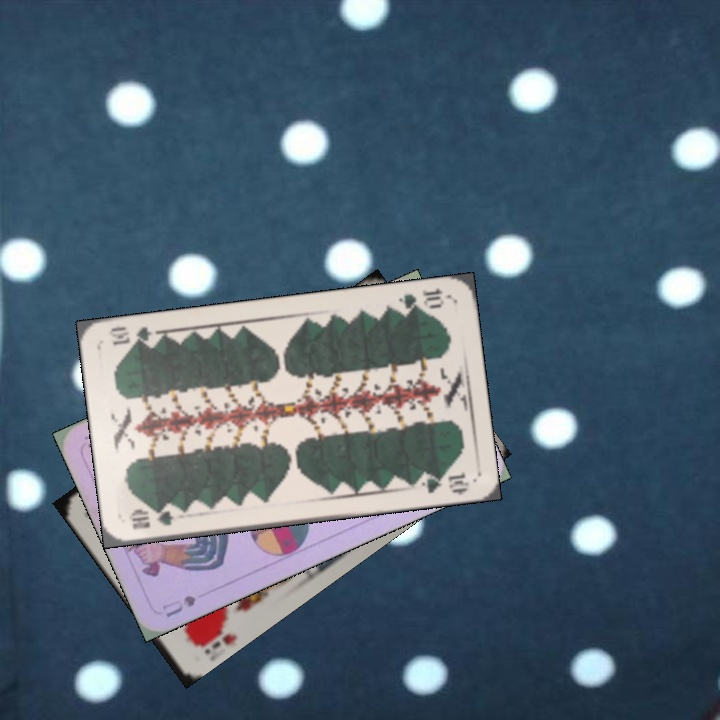G10: (394, 284, 450, 315), (125, 505, 177, 532)
HK: (189, 614, 233, 657)
SU: (158, 591, 198, 620)
